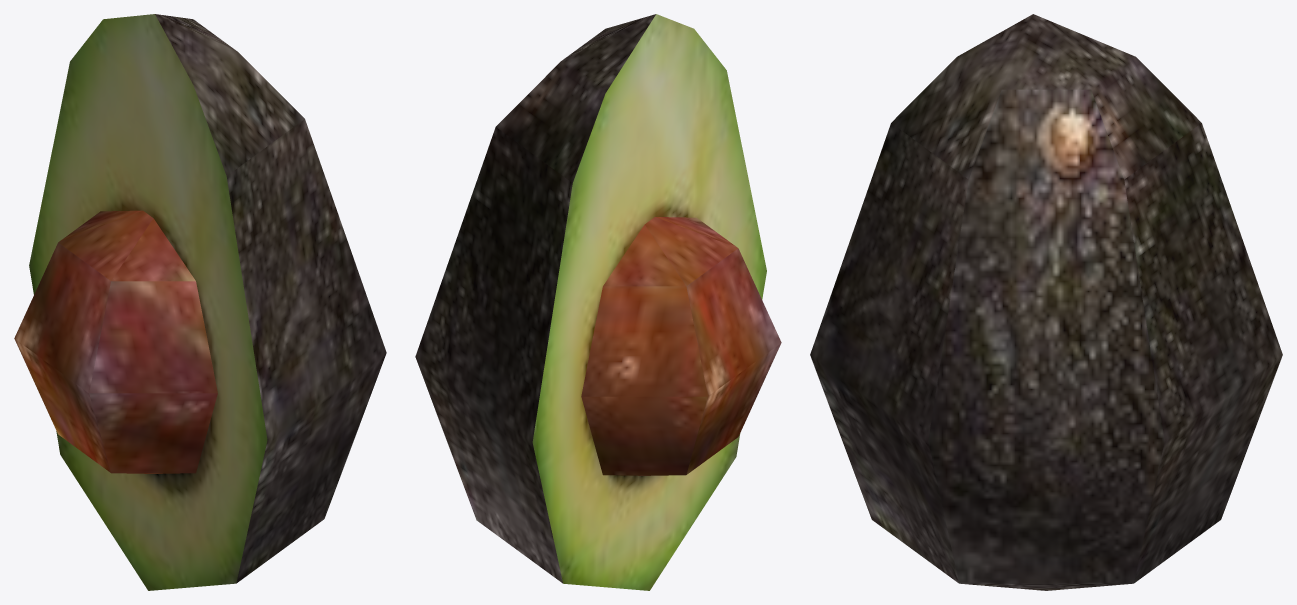
Rendered from Avocado_01.glb.
3 renders of one model, left to right at view 1: azimuth 30°, elevation 25°; view 2: azimuth 150°, elevation 25°; view 3: azimuth 270°, elevation 25°, orthographic.
Parts seen in each view (by area): view 1: Avocado_01; view 2: Avocado_01; view 3: Avocado_01.
Boxes of the visible parts, x1=… form: Avocado_01: x1=14, y1=14, x2=386, y2=590; Avocado_01: x1=415, y1=14, x2=781, y2=590; Avocado_01: x1=810, y1=14, x2=1282, y2=590.
Size of the model in its own units: 0.0837 by 0.169 by 0.1255.
1 material, 1 textured.
